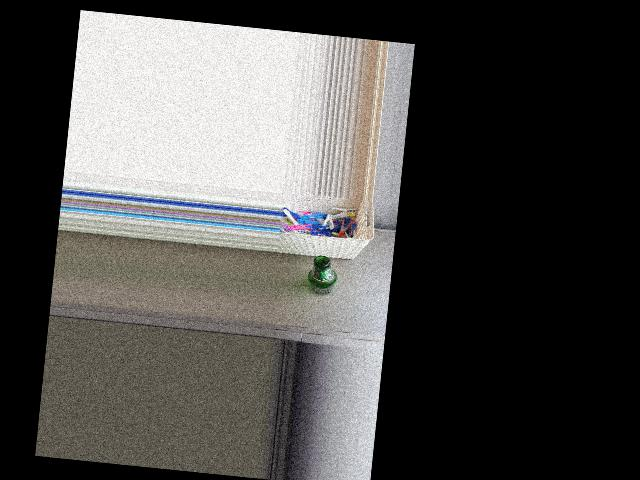beer: (306, 254, 339, 296)
